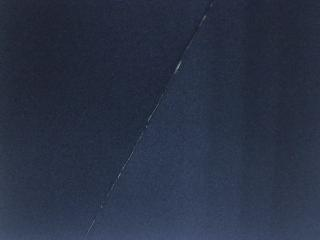crack: (82, 0, 215, 240)
